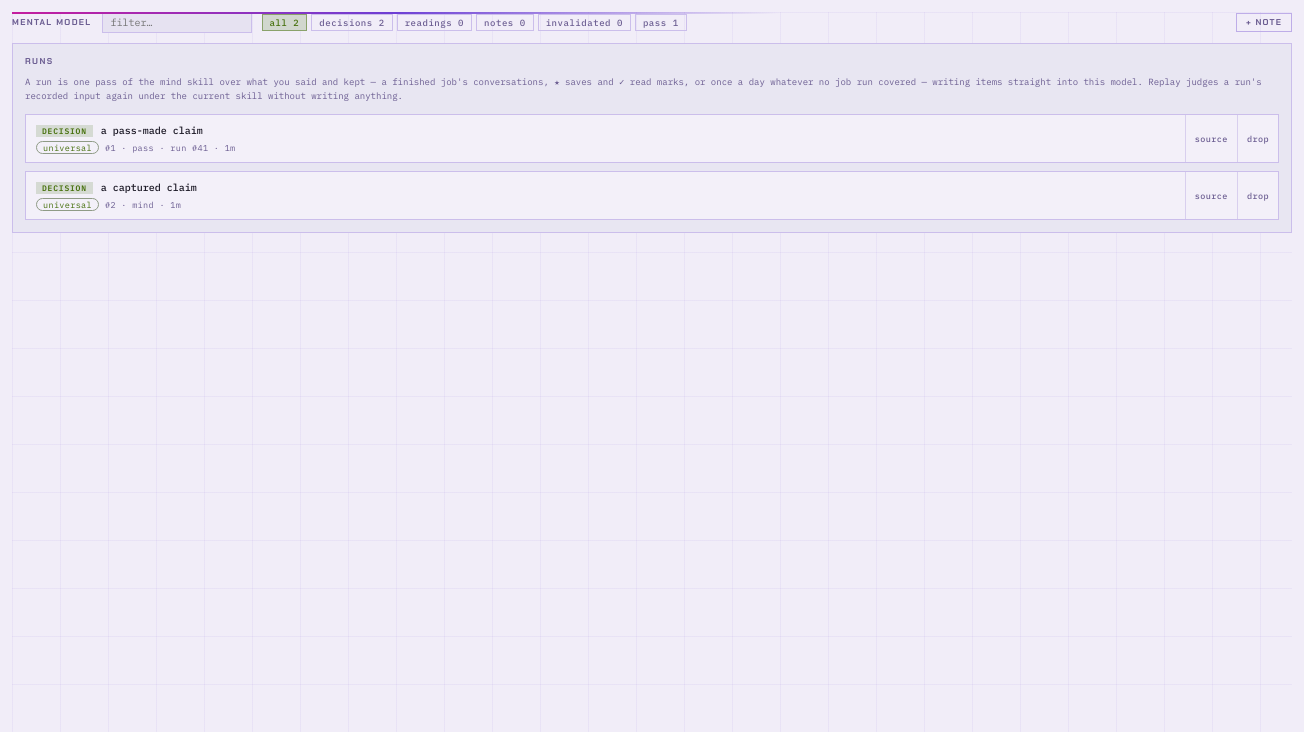
Test: MentalModelPane — mind runs › renders the pass chip, no nightly/proposed chip and no confirm button
Expected: the text "a pass-made claim" is shown, [101,123,203,138]
Expected: the button "all 2" is shown, [262,14,307,31]
What coordinates should you click on to do the following:
click the button "pass 1"
I would click on:
 (661, 22)
Its box is [635,14,687,31].
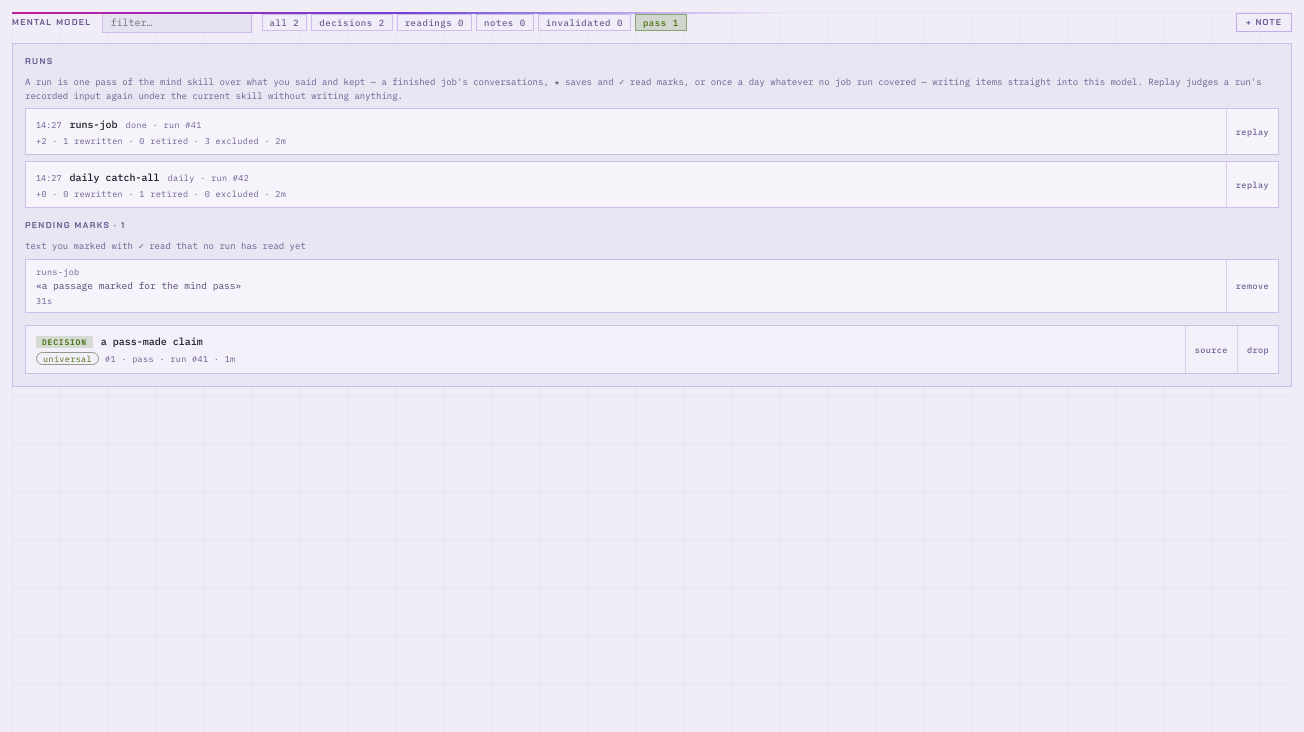
Expected: the text "a pass-made claim" is shown, [101,334,203,349]
Now the button "a captured claim" is gone
